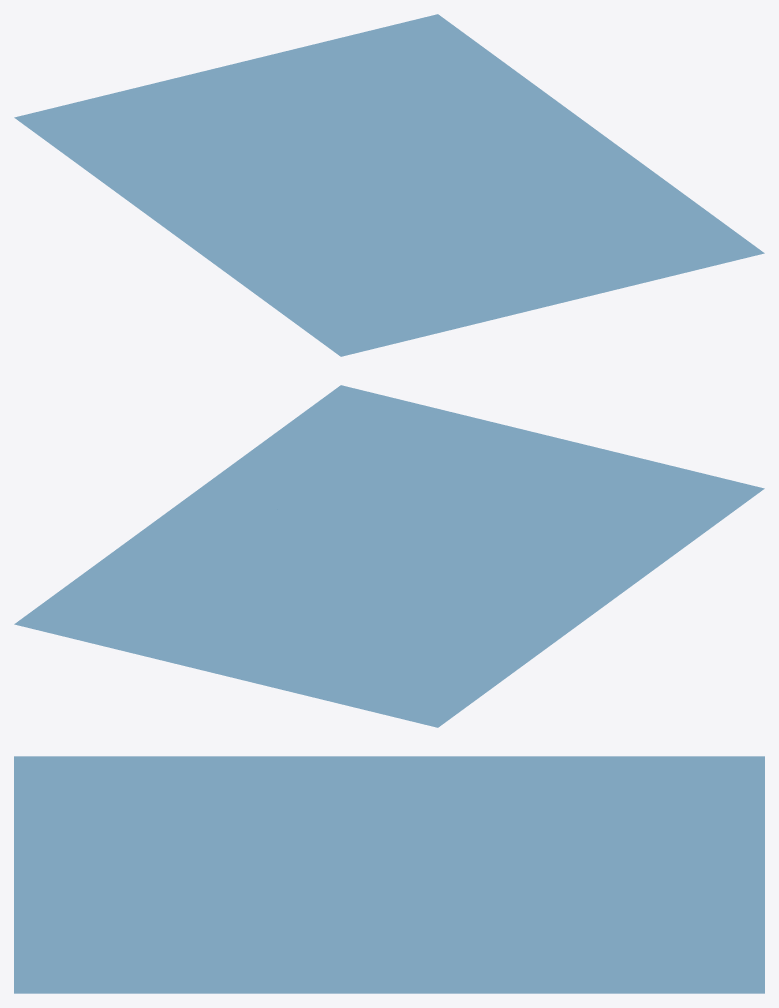
File: GroundPlane.fbx
The picture shows the model from 3 angles, top to bottom: view 1: azimuth 30°, elevation 25°; view 2: azimuth 150°, elevation 25°; view 3: azimuth 270°, elevation 25°; orthographic projection. The views are drawn at different scales.
Parts seen in each view (by area): view 1: TableTest3.003; view 2: TableTest3.003; view 3: TableTest3.003.
Boxes of the visible parts, x1,y1,x2,y2 form: TableTest3.003: (14,14,764,356); TableTest3.003: (14,385,764,727); TableTest3.003: (14,756,764,993).
Bounding box in the file's own units: 6.1 × 8.14 × 0.
